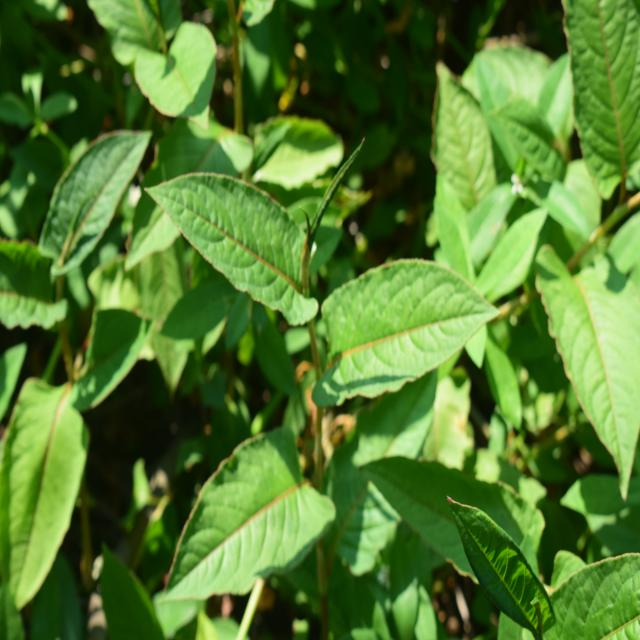Chinese_knotweed: (164, 142, 534, 596)
